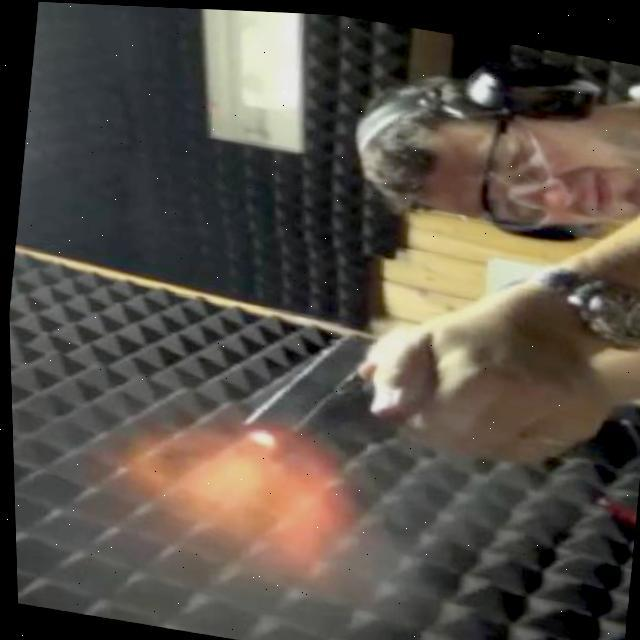gun: (216, 307, 429, 488)
